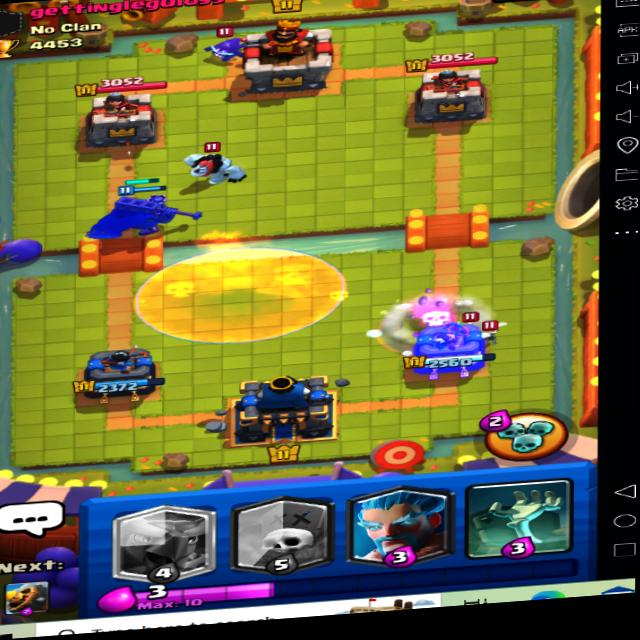electro-spirit: (199, 24, 247, 61)
ice-golem: (181, 130, 253, 194)
skeleton: (454, 307, 488, 334), (479, 321, 504, 346)
